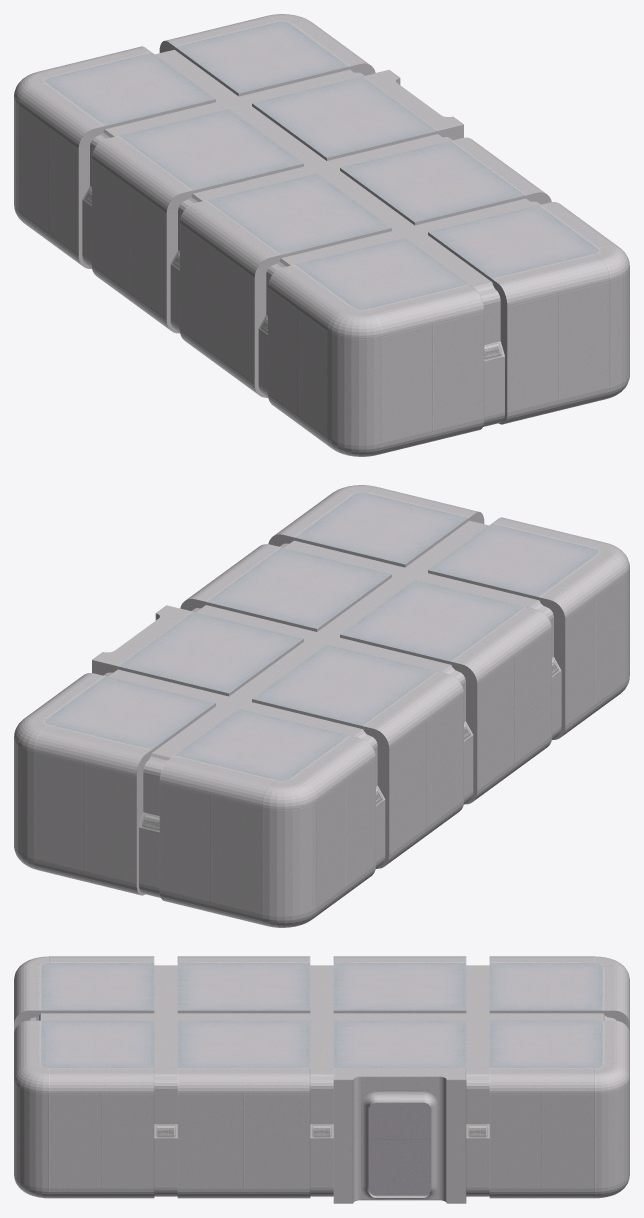
File: thm_spc_corvette_dungeon_r65_officerquarters65_mesh_r65.fbx
3 views of the same model, one above another, from view 1: azimuth 30°, elevation 25°; view 2: azimuth 150°, elevation 25°; view 3: azimuth 270°, elevation 25° (orthographic). The views are drawn at different scales.
Visible parts, largest first — view 1: mesh_node; view 2: mesh_node; view 3: mesh_node.
Part boxes in pixels (x1,y1,x2,y2): mesh_node: [14, 14, 629, 456]; mesh_node: [14, 485, 629, 927]; mesh_node: [14, 956, 629, 1203].
Size of the model in its own units: 7.9 by 3.5 by 15.8.
